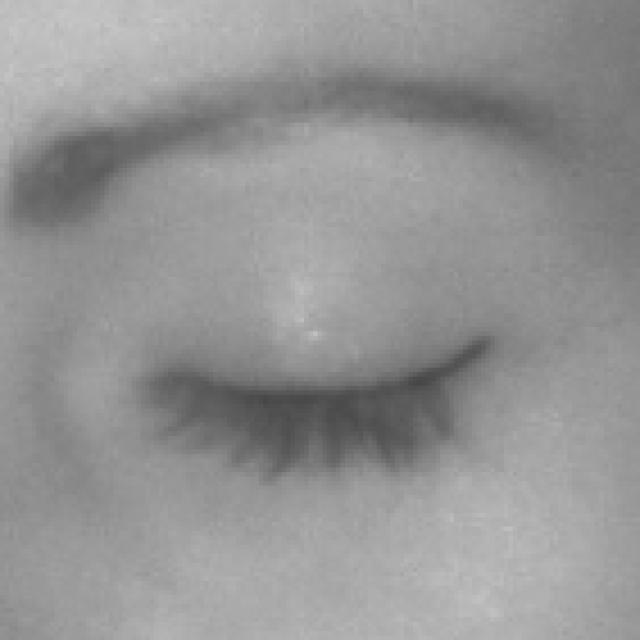close: (0, 60, 640, 548)
